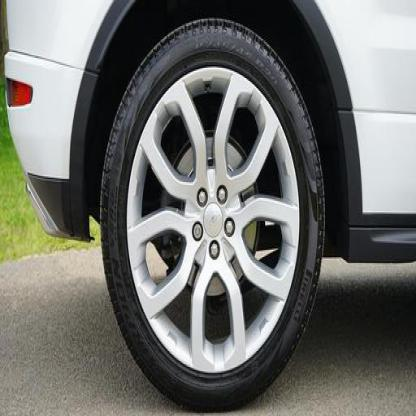Tire: (99, 16, 328, 411)
